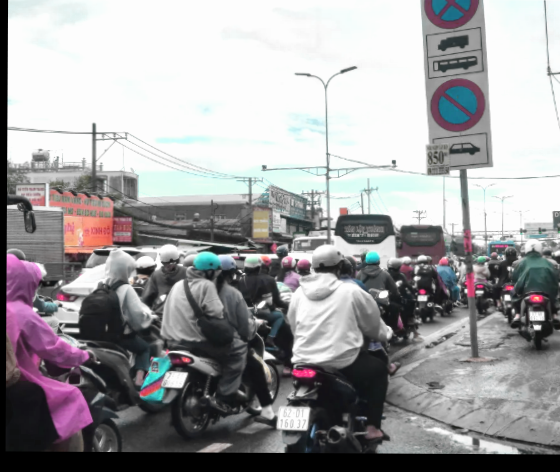Bien-so: (257, 416, 290, 446), (146, 373, 170, 395), (515, 331, 534, 345)
